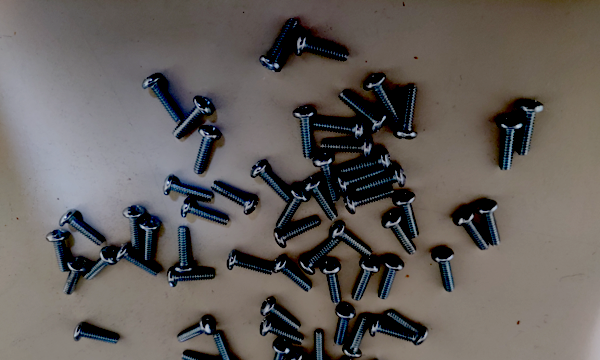shortscrew: (339, 90, 388, 134), (260, 18, 298, 72), (143, 73, 183, 123), (364, 73, 401, 125), (171, 96, 214, 140), (59, 209, 105, 247), (302, 176, 339, 222), (251, 161, 292, 202), (210, 180, 259, 214), (295, 32, 350, 62), (276, 185, 311, 232), (517, 99, 545, 157), (272, 254, 313, 293), (382, 211, 418, 255), (329, 221, 372, 257), (273, 217, 321, 249), (115, 244, 161, 277), (299, 239, 340, 276), (387, 310, 429, 346), (454, 208, 489, 251), (181, 196, 231, 226), (355, 166, 406, 195), (497, 117, 524, 171), (261, 296, 301, 332), (163, 174, 214, 202), (341, 149, 392, 177), (336, 167, 387, 195), (345, 187, 395, 215), (193, 126, 222, 174), (313, 153, 340, 203), (321, 135, 374, 160), (352, 257, 381, 302), (475, 200, 502, 247), (260, 317, 305, 345), (313, 118, 365, 142), (395, 86, 418, 140), (343, 315, 371, 359), (393, 192, 419, 239), (227, 251, 274, 277), (293, 107, 316, 160), (431, 247, 456, 293), (370, 317, 416, 342), (379, 256, 405, 300), (62, 257, 91, 296), (85, 248, 118, 282), (177, 315, 217, 343), (74, 322, 120, 346), (46, 229, 71, 273), (175, 226, 196, 274), (167, 268, 216, 288), (123, 205, 145, 249), (140, 218, 162, 261), (321, 260, 342, 304), (335, 304, 356, 346), (213, 333, 239, 360), (311, 329, 331, 360), (270, 337, 292, 360), (181, 350, 225, 360), (286, 349, 323, 360), (343, 359, 384, 360), (323, 359, 357, 360)
